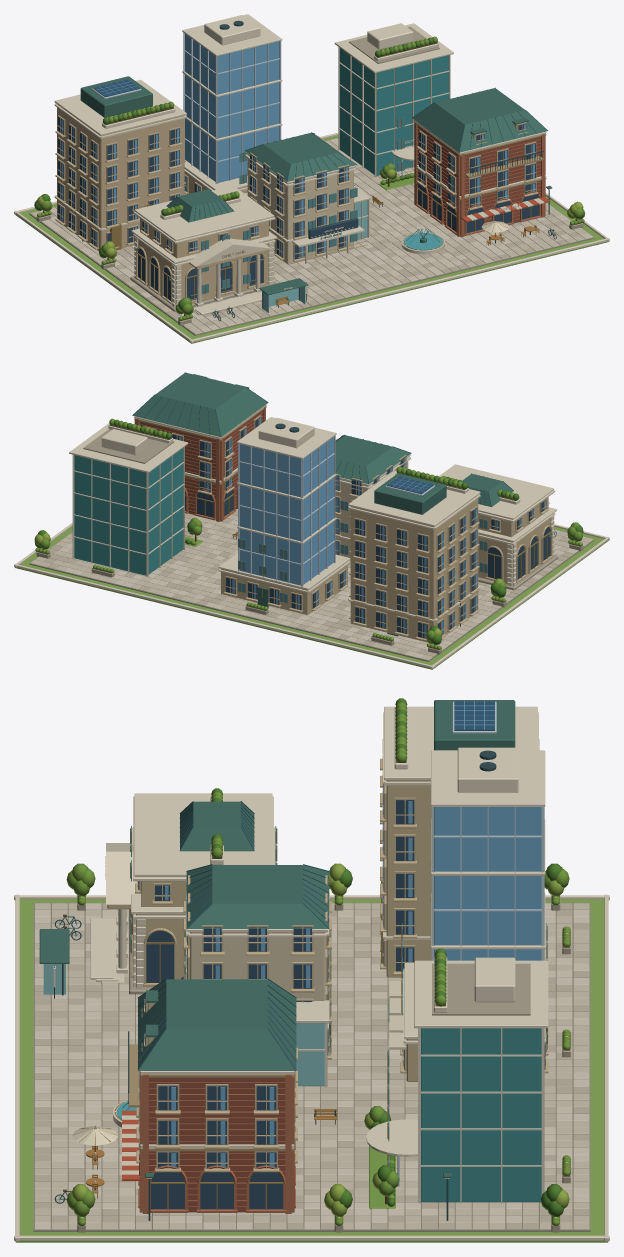
File: level-5.glb
3 views of the same model, one above another, from view 1: azimuth 30°, elevation 25°; view 2: azimuth 150°, elevation 25°; view 3: azimuth 270°, elevation 25° (orthographic). The views are drawn at different scales.
Parts seen in each view (by area): view 1: finance_level_5_geometry; view 2: finance_level_5_geometry; view 3: finance_level_5_geometry.
Part boxes in pixels (<box>): finance_level_5_geometry: <box>14,14,609,343</box>; finance_level_5_geometry: <box>14,372,609,669</box>; finance_level_5_geometry: <box>14,698,609,1242</box>.
Size of the model in its own units: 60 by 23.6 by 44.
